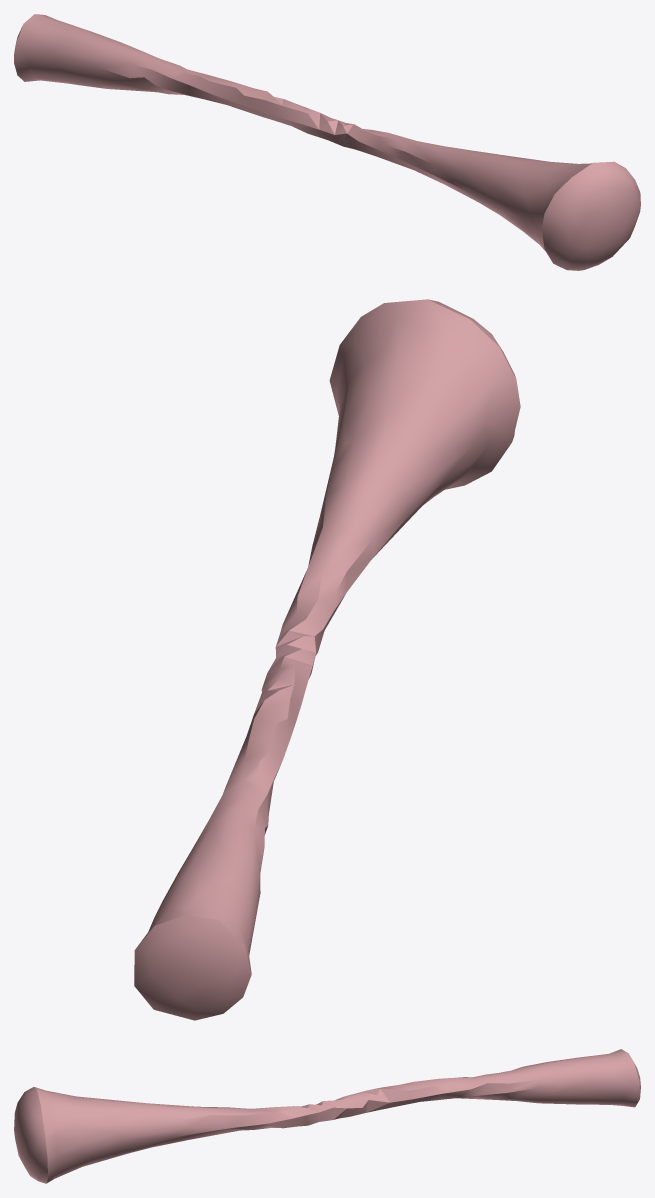
The model's file is fma58842_mm2184.glb.
3 views of the same model, one above another, from view 1: azimuth 30°, elevation 25°; view 2: azimuth 150°, elevation 25°; view 3: azimuth 270°, elevation 25° (orthographic). The views are drawn at different scales.
Parts seen in each view (by area): view 1: FMA58842_MM2184; view 2: FMA58842_MM2184; view 3: FMA58842_MM2184.
Part boxes in pixels (x1,y1,x2,y2): FMA58842_MM2184: [14, 14, 640, 270]; FMA58842_MM2184: [134, 299, 520, 1020]; FMA58842_MM2184: [14, 1049, 640, 1183].
Bounding box in the file's own units: 0.00668 × 0.00268 × 0.0149.
